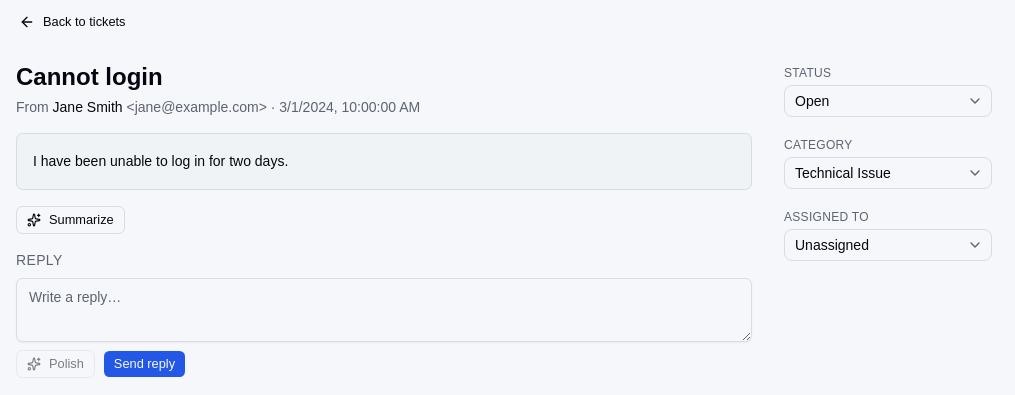
TicketDetailPage › disables the Status select while the update mutation is pending
This screenshot has width=1015, height=395.
Expected: the heading "Cannot login" is shown, [16, 63, 163, 90]
Click the dropdown named "Status". click: [888, 101]
box: [784, 85, 992, 117]
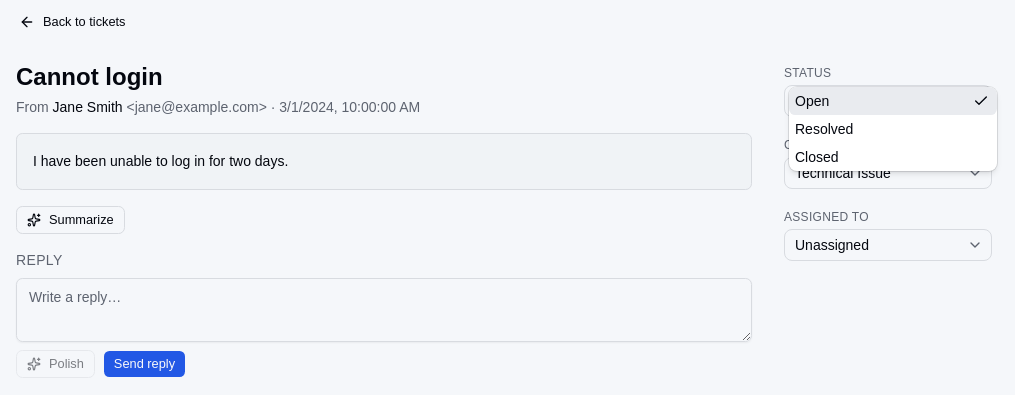
Click the option "Resolved". click: [824, 129]
box: [795, 121, 853, 137]
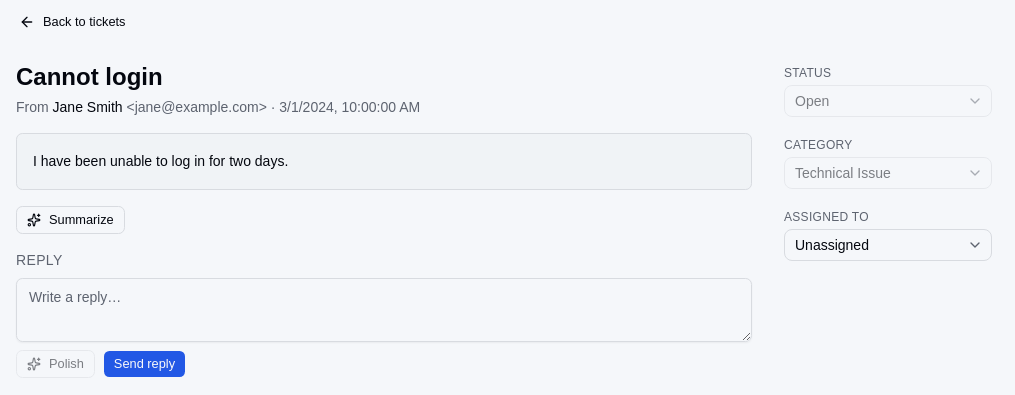
Expected: the dropdown named "Status" is disabled, [784, 85, 992, 117]
